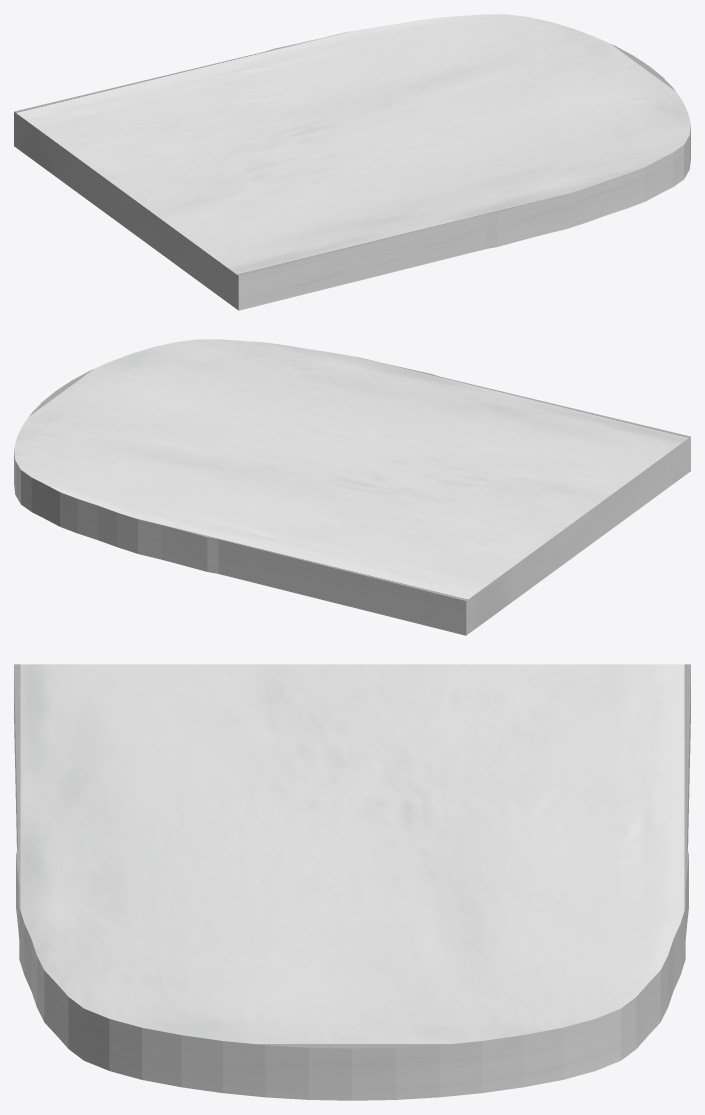
Rendered from Toilet_Lid.fbx.
3 views of the same model, one above another, from view 1: azimuth 30°, elevation 25°; view 2: azimuth 150°, elevation 25°; view 3: azimuth 270°, elevation 25° (orthographic). The views are drawn at different scales.
Parts seen in each view (by area): view 1: Cylinder.001; view 2: Cylinder.001; view 3: Cylinder.001.
Boxes of the visible parts, x1,y1,x2,y2 form: Cylinder.001: [14, 14, 690, 310]; Cylinder.001: [14, 339, 690, 635]; Cylinder.001: [14, 664, 690, 1100].
Size of the model in its own units: 33.69 by 2.13 by 25.08.
